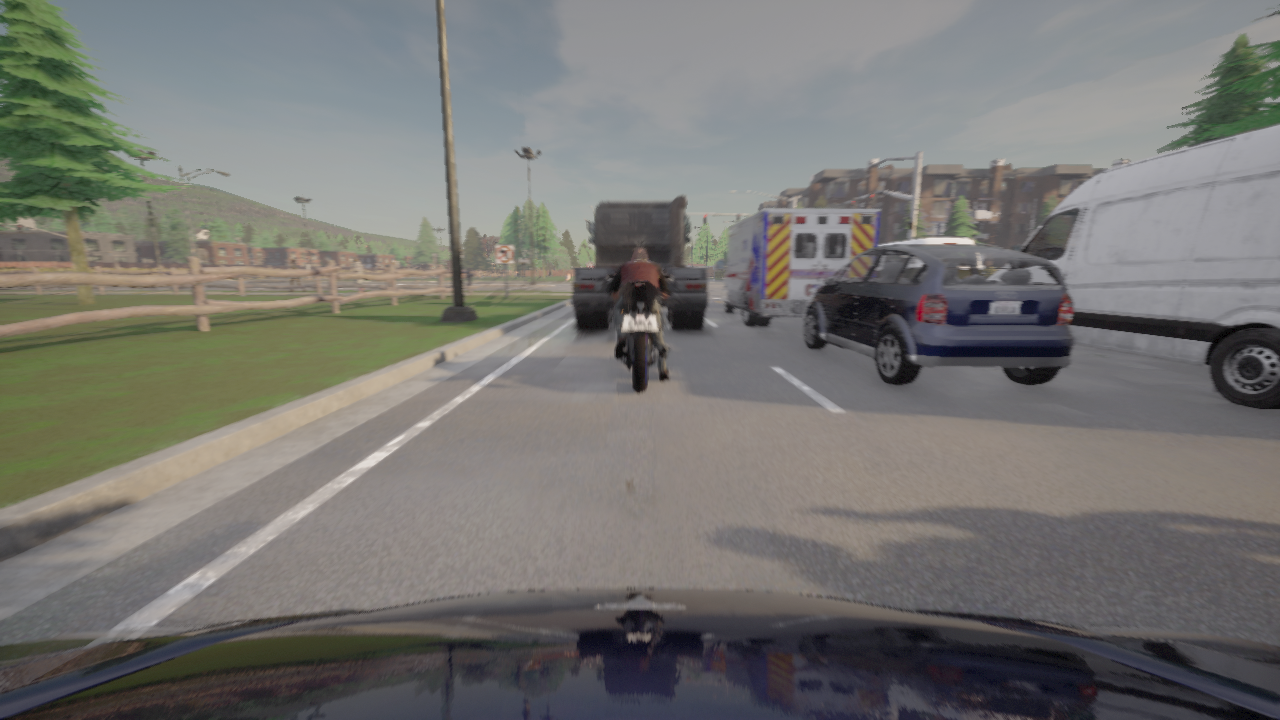cyclist: (0, 588, 1279, 719), (1010, 124, 1279, 409), (803, 244, 1073, 385), (715, 209, 880, 326), (572, 195, 707, 329), (607, 274, 672, 392), (878, 237, 974, 246)
pedestrian: (288, 258, 305, 292), (353, 258, 364, 293)
